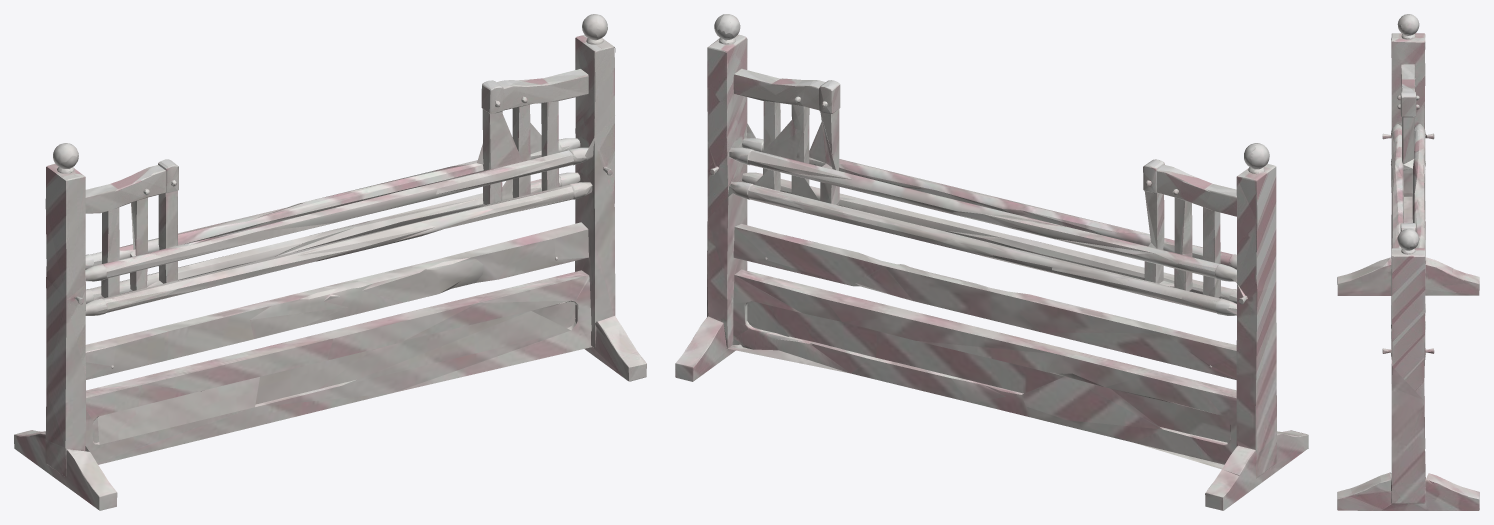
The model's file is show_jump.glb.
The picture shows the model from 3 angles, left to right: view 1: azimuth 30°, elevation 25°; view 2: azimuth 150°, elevation 25°; view 3: azimuth 270°, elevation 25°; orthographic projection. The views are drawn at different scales.
Size of the model in its own units: 1.9 by 1.1 by 0.5117.
1 material, 1 textured.
